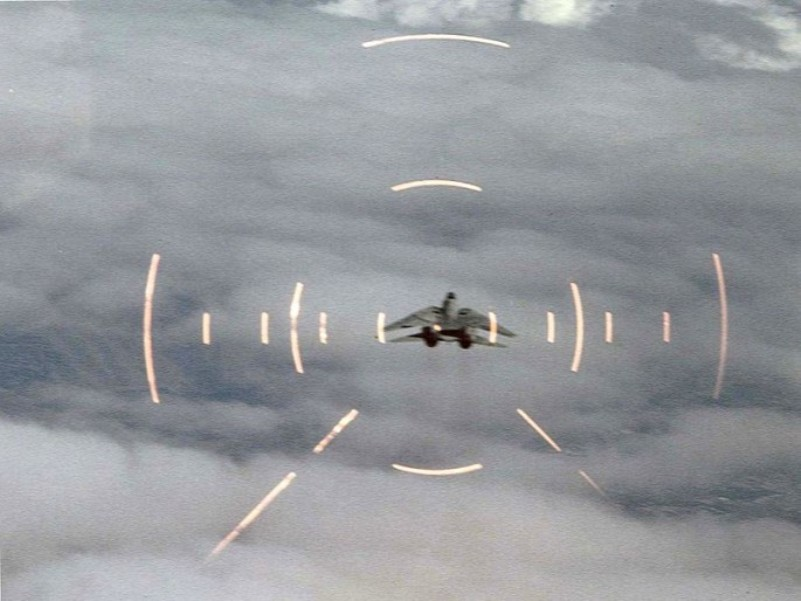F14: (378, 291, 520, 350)
